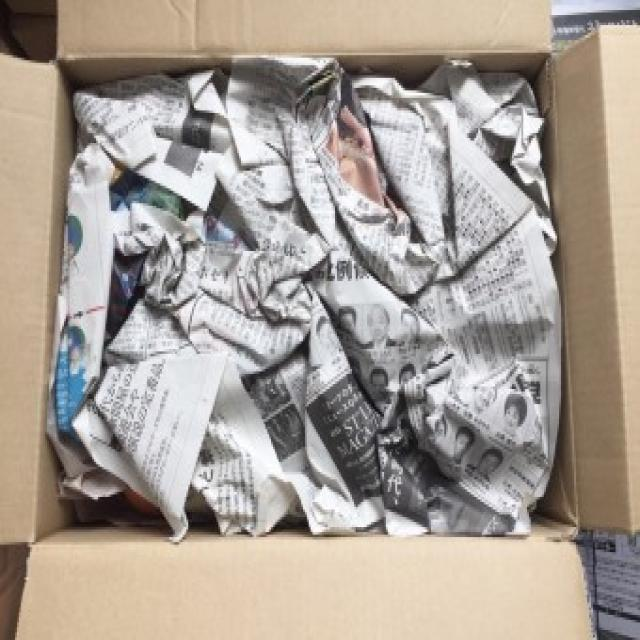Newspaper: (50, 84, 563, 540)
